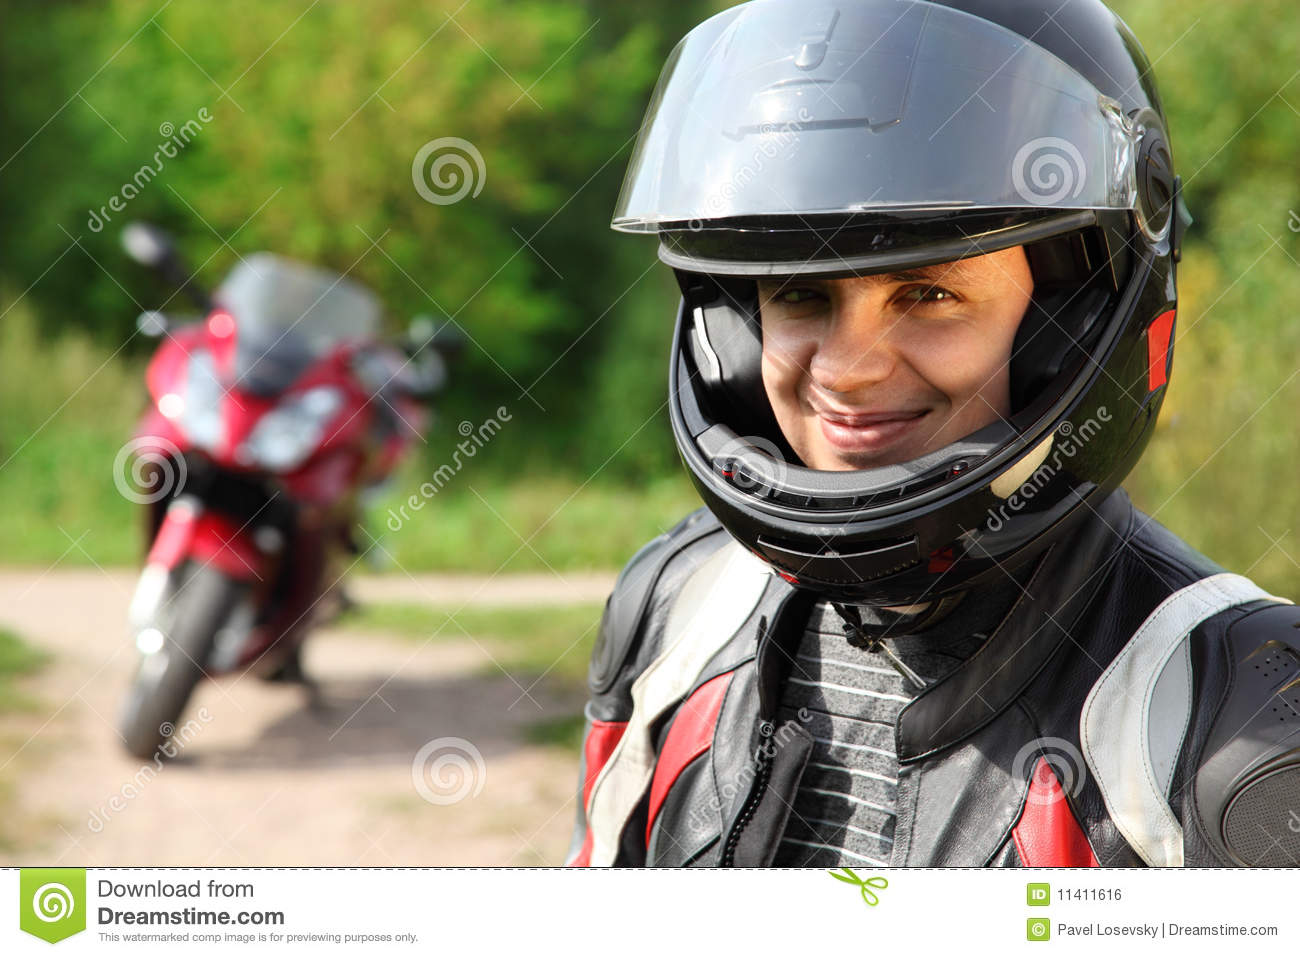helmet: (635, 26, 1152, 538)
